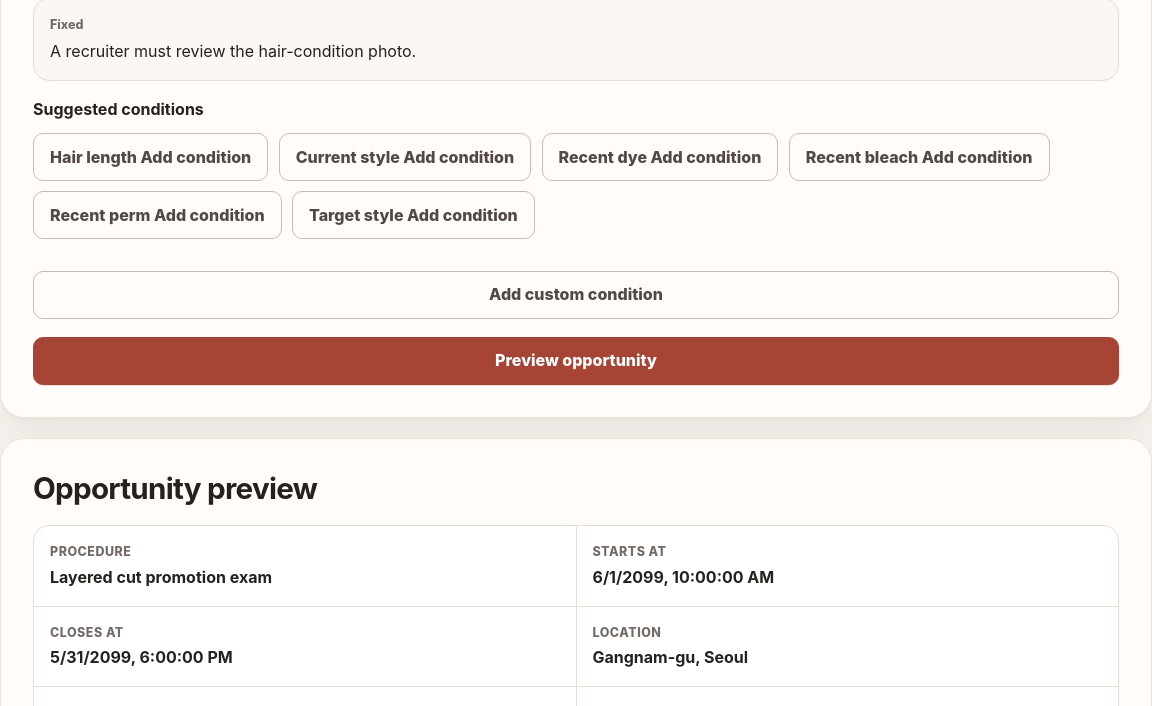
Test: renders opportunity form and preview UI in English when English is selected
(page scrolled)
Expected: the heading "Opportunity preview" is shown, [33,470,317,506]
Click the button "Preview opportunity" at (576, 361), box [33,337,1119,385]
(page scrolled)
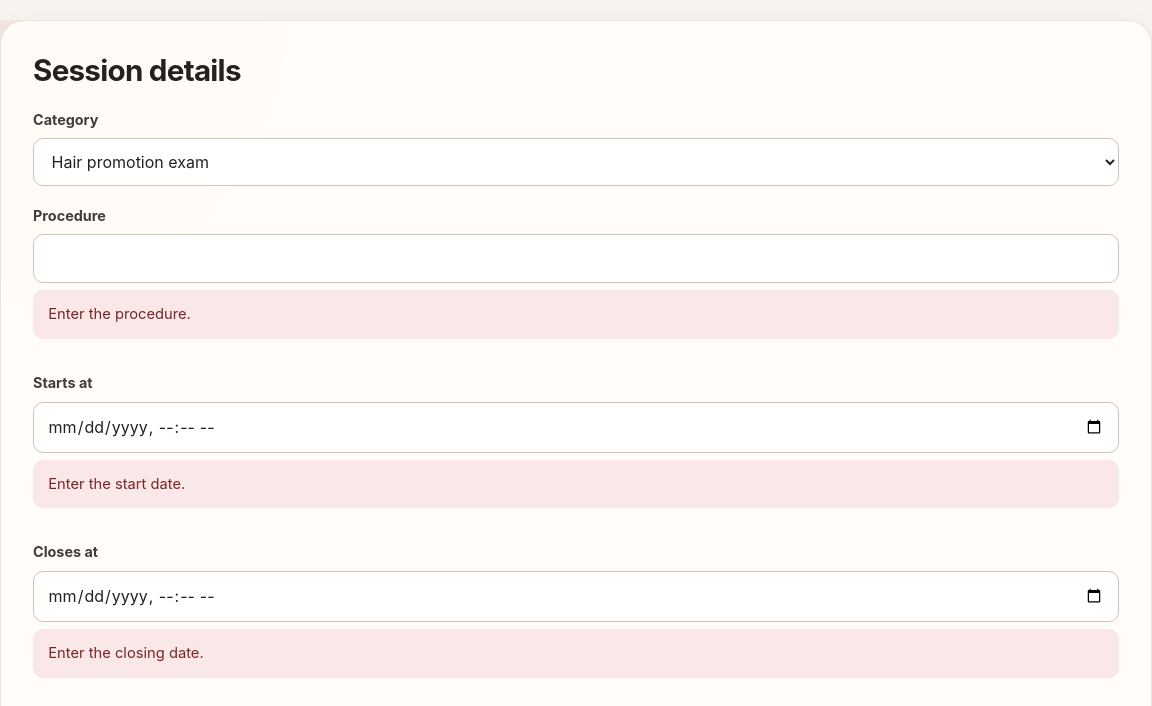
Expected: the text "Enter the procedure." is shown, [33,290,1119,339]
